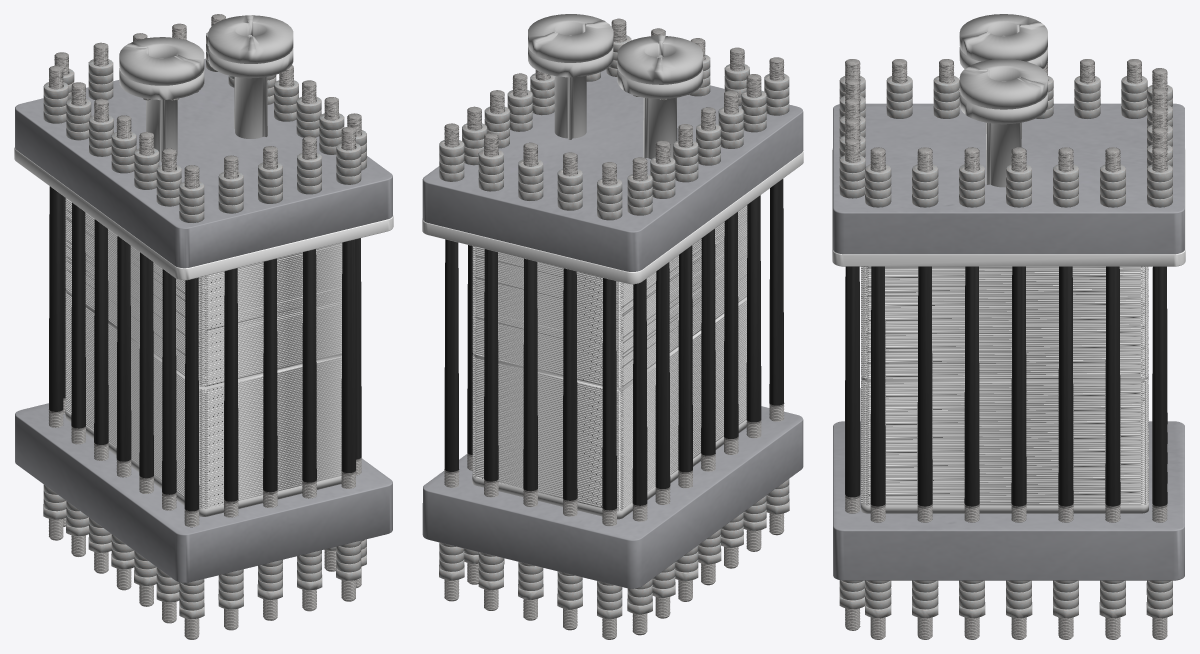
Rendered from hydrolyzer-v3.glb.
3 renders of one model, left to right at view 1: azimuth 30°, elevation 25°; view 2: azimuth 150°, elevation 25°; view 3: azimuth 270°, elevation 25°, orthographic. The views are drawn at different scales.
Parts seen in each view (by area): view 1: Plane001, Bolt001_2, Bipolar_Plate001, Nut, Circle, Bolt001_1, Plane018; view 2: Plane001, Bolt001_2, Bipolar_Plate001, Nut, Circle, Bolt001_1, Plane018; view 3: Plane001, Bipolar_Plate001, Bolt001_2, Nut, Circle, Bolt001_1, Plane018.
Part boxes in pixels (x1,y1,x2,y2): Plane001: (15, 58, 392, 582); Bolt001_2: (49, 186, 361, 511); Bipolar_Plate001: (65, 198, 342, 508); Nut: (43, 32, 366, 618); Circle: (65, 15, 341, 516); Bolt001_1: (48, 14, 361, 639); Plane018: (14, 147, 393, 280); Plane001: (422, 69, 803, 588); Bolt001_2: (444, 179, 783, 510); Bipolar_Plate001: (472, 205, 747, 511); Nut: (439, 35, 789, 618); Circle: (472, 14, 746, 519); Bolt001_1: (444, 18, 784, 639); Plane018: (422, 150, 803, 284); Plane001: (833, 103, 1184, 580); Bipolar_Plate001: (861, 266, 1148, 505); Bolt001_2: (845, 266, 1167, 506); Nut: (839, 76, 1172, 618); Circle: (860, 14, 1148, 513); Bolt001_1: (845, 59, 1167, 639); Plane018: (832, 149, 1185, 266).
Size of the model in its own units: 0.4385 by 1.01 by 0.5954.
Materials: 7 (3 with a texture image).
